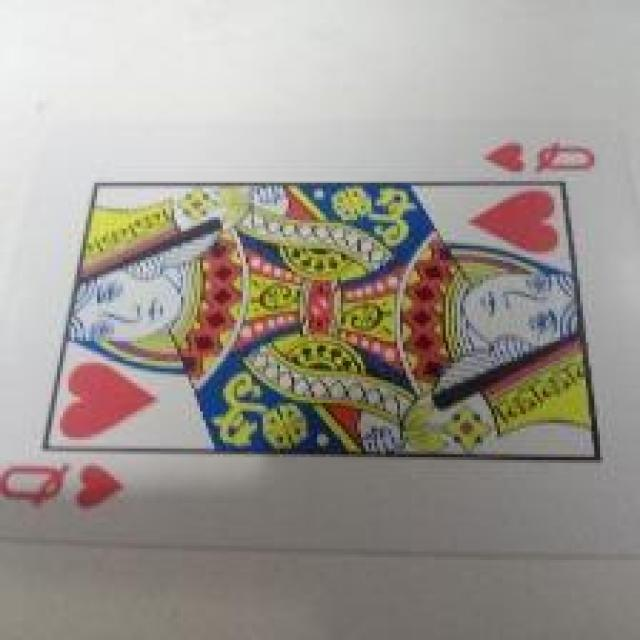Queen of hearts: (0, 128, 631, 547)
